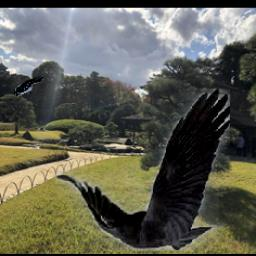Crow: (56, 90, 231, 252)
Woodpecker: (13, 76, 43, 97)
